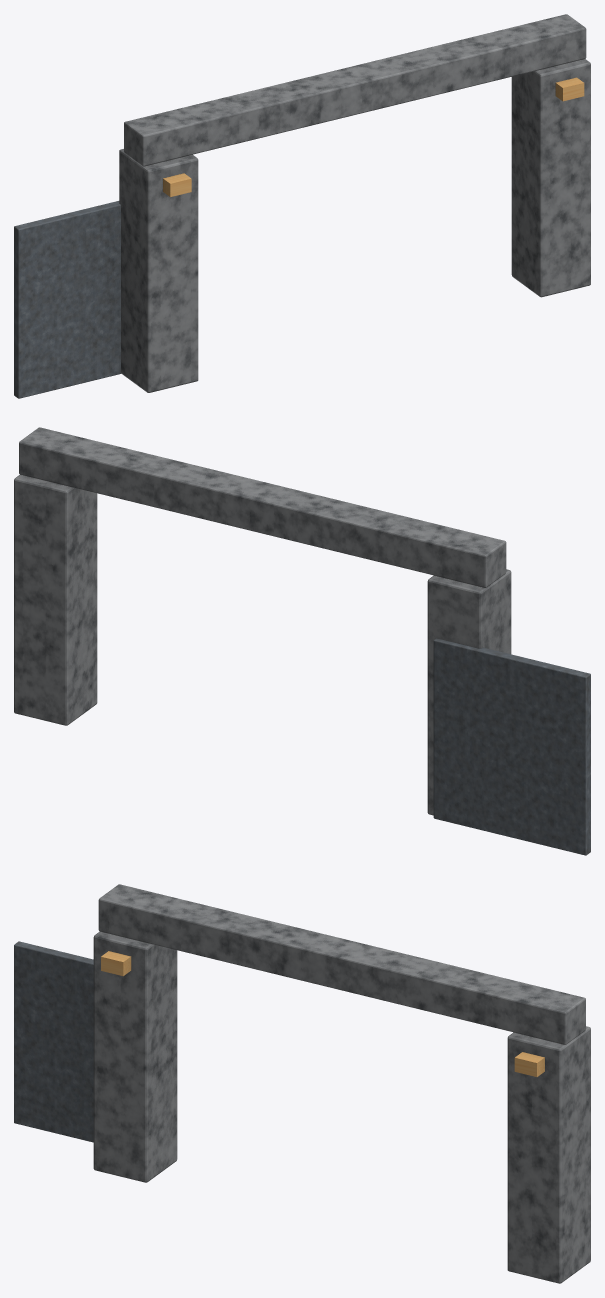
File: city_gate.glb
3 renders of one model, top to bottom at view 1: azimuth 30°, elevation 25°; view 2: azimuth 150°, elevation 25°; view 3: azimuth 330°, elevation 25°, orthographic. The views are drawn at different scales.
Parts seen in each view (by area): view 1: city_gate; view 2: city_gate; view 3: city_gate.
Part boxes in pixels (bbox=[...]): city_gate: bbox=[14, 14, 590, 398]; city_gate: bbox=[14, 427, 590, 855]; city_gate: bbox=[14, 884, 590, 1283].
Bounding box in the file's own units: 12.8 × 5.7 × 1.6.
Materials: 3 (3 with a texture image).
